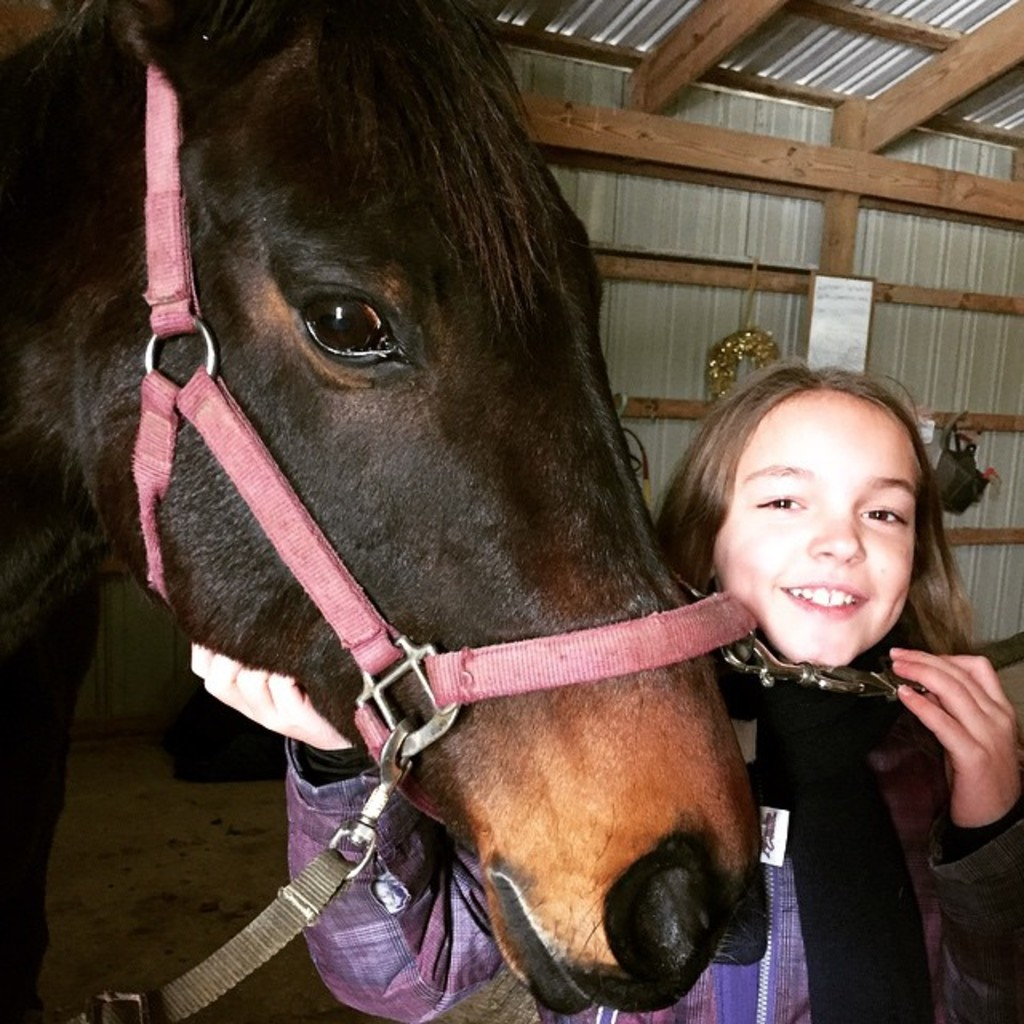Person: (190, 358, 1024, 1024)
